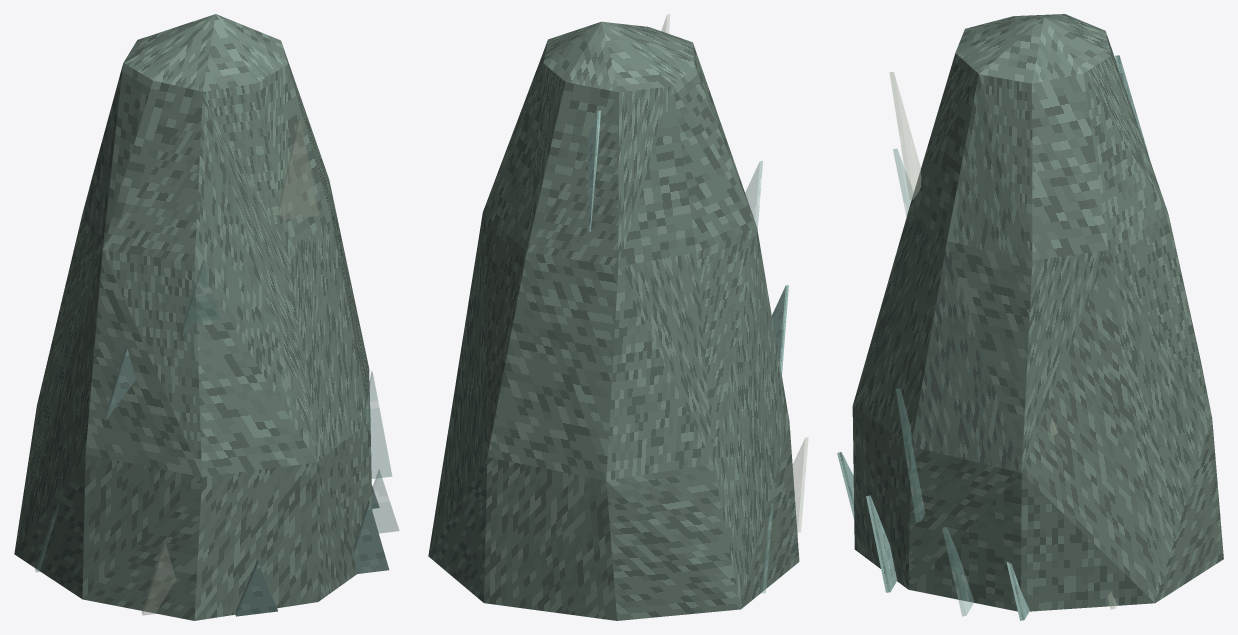
The model's file is f_glass_mound_mid.glb.
The picture shows the model from 3 angles, left to right: view 1: azimuth 30°, elevation 25°; view 2: azimuth 150°, elevation 25°; view 3: azimuth 270°, elevation 25°; orthographic projection.
Parts seen in each view (by area): view 1: block_heaped-glass, block_jutting-shard (×8); view 2: block_heaped-glass, block_jutting-shard (×4); view 3: block_heaped-glass, block_jutting-shard (×5).
Boxes of the visible parts, x1,y1,x2,y2 form: block_heaped-glass: (14, 14, 372, 620); block_jutting-shard (×8): (106, 116, 399, 616); block_heaped-glass: (428, 21, 799, 620); block_jutting-shard (×4): (587, 110, 808, 532); block_heaped-glass: (852, 14, 1223, 611); block_jutting-shard (×5): (866, 72, 973, 616).
Bounding box in the file's own units: 0.8537 × 1.31 × 0.8705.
Materials: 3 (3 with a texture image).
